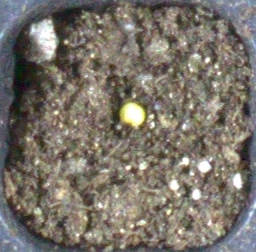chilli seed: (118, 101, 146, 127)
